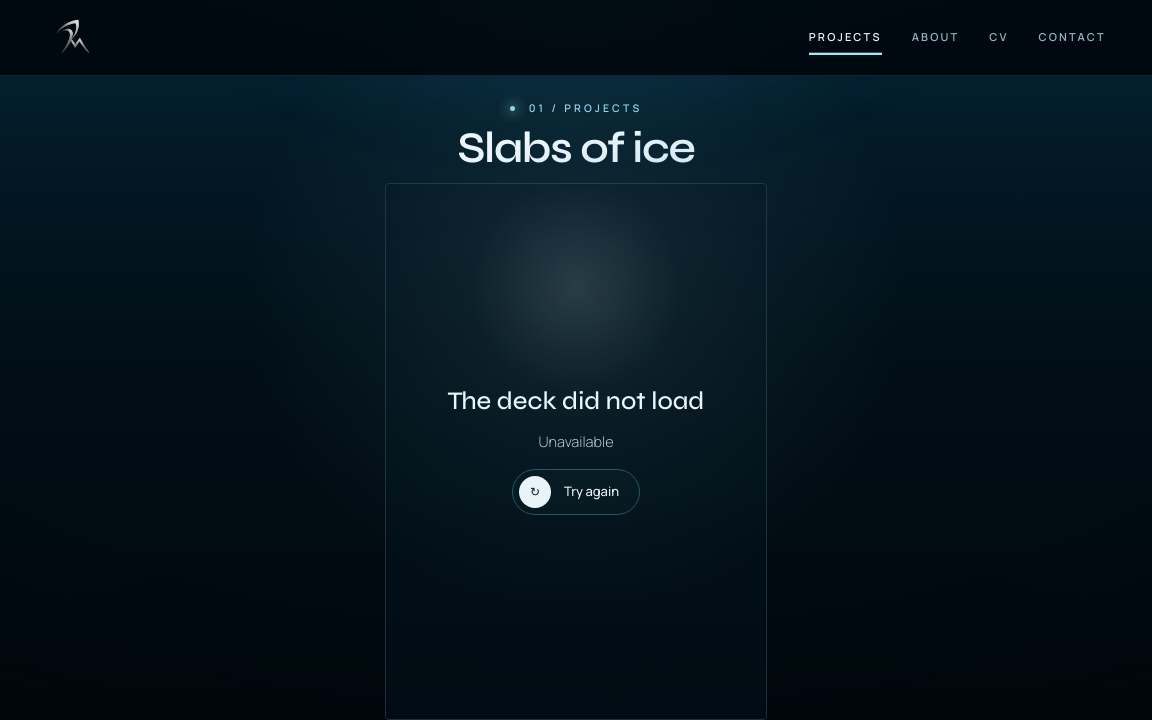
it: Projects › allows retry after an API failure
expect the text "Unavailable" is shown: met, box [538,430,614,455]
Click the button "↻ Try again".
click(576, 492)  # box [512,469,640,515]
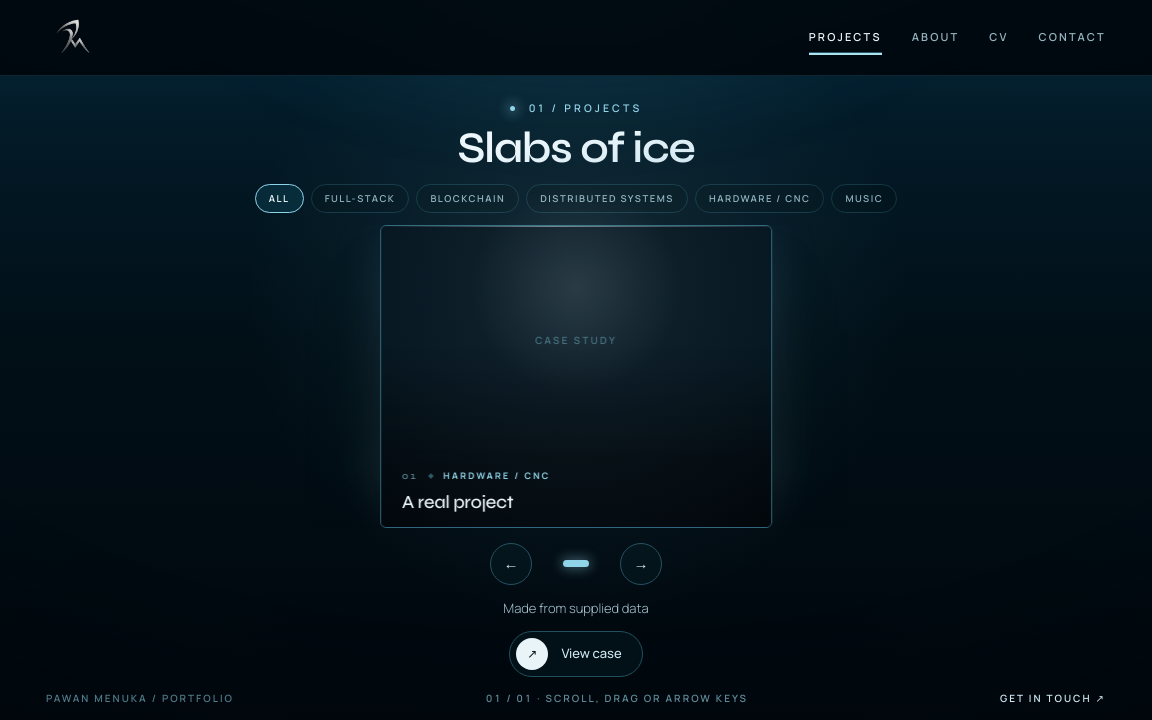
expect the heading "A real project" is shown: met, box [402,491,513,513]
